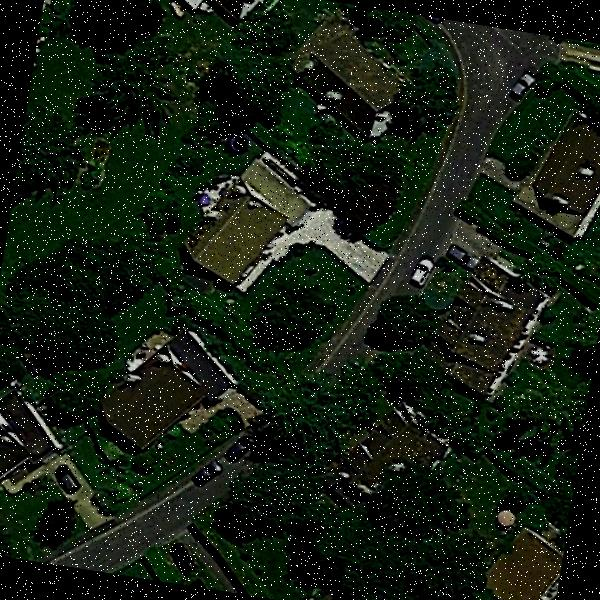Buildings: (111, 331, 216, 453), (444, 262, 536, 382), (200, 162, 294, 277), (526, 106, 600, 227), (0, 385, 59, 515), (313, 42, 401, 120), (483, 526, 558, 600), (358, 415, 425, 477), (191, 0, 260, 11)
